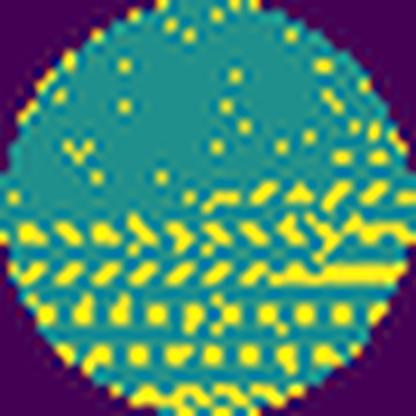Loc: (0, 181, 415, 416)
